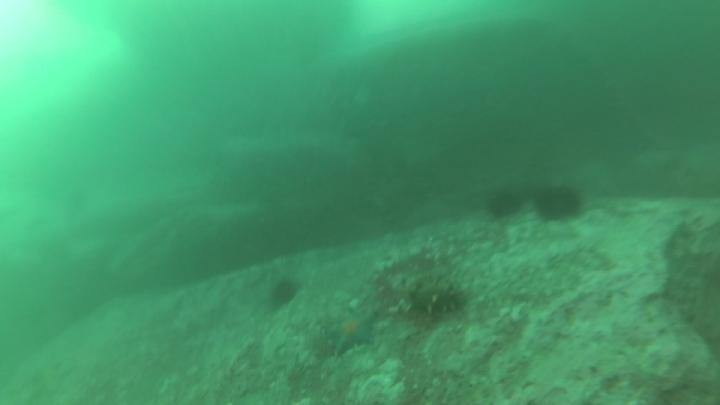echinus: (530, 181, 586, 225), (484, 185, 526, 221), (265, 275, 302, 312)
holothurian: (373, 267, 471, 320)
starfish: (323, 307, 379, 357)
